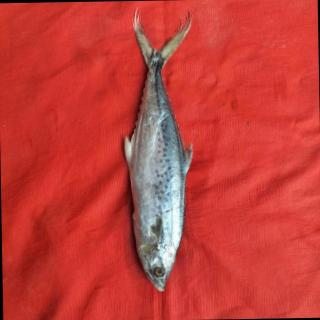Ikan: (112, 1, 214, 298)
